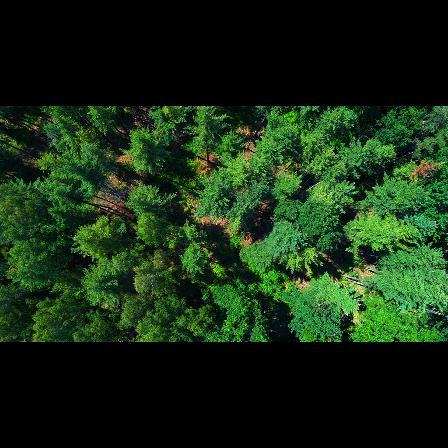Dead: (96, 176, 133, 202)
